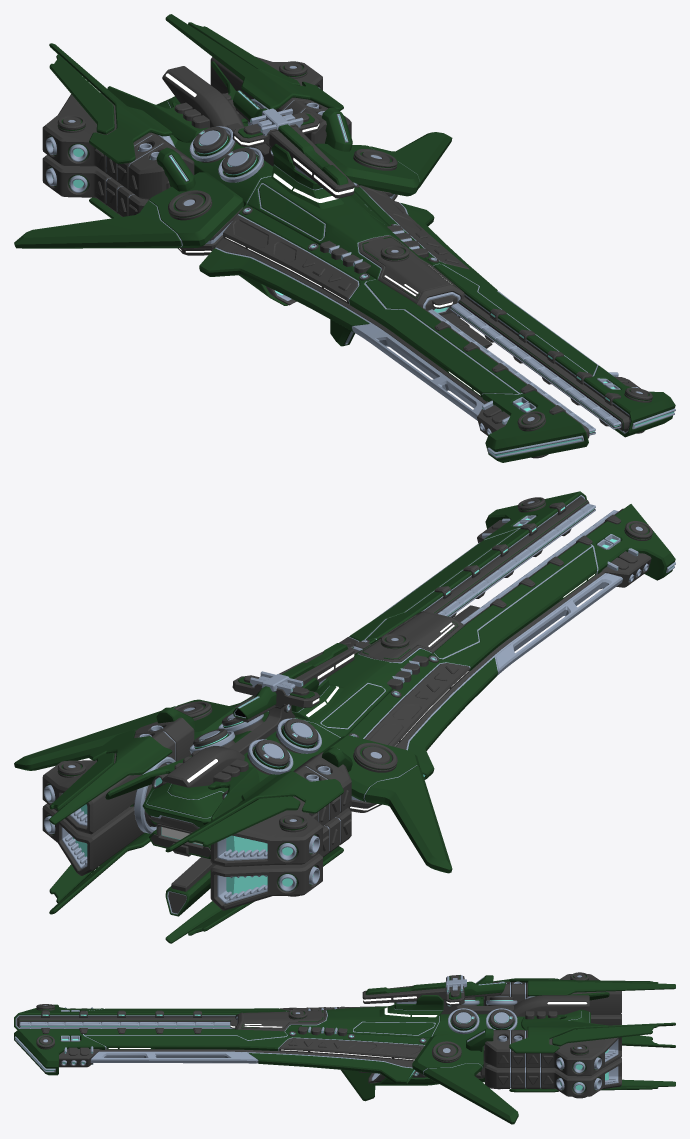
Rendered from Bahamut_Class FBX.fbx.
The picture shows the model from 3 angles, top to bottom: view 1: azimuth 30°, elevation 25°; view 2: azimuth 150°, elevation 25°; view 3: azimuth 270°, elevation 25°; orthographic projection. The views are drawn at different scales.
Visible parts, largest first — view 1: Cube; view 2: Cube; view 3: Cube.
Boxes of the visible parts, x1,y1,x2,y2 form: Cube: (14, 14, 675, 462); Cube: (14, 491, 675, 943); Cube: (14, 972, 675, 1124).
Size of the model in its own units: 1763 by 693 by 3485.
